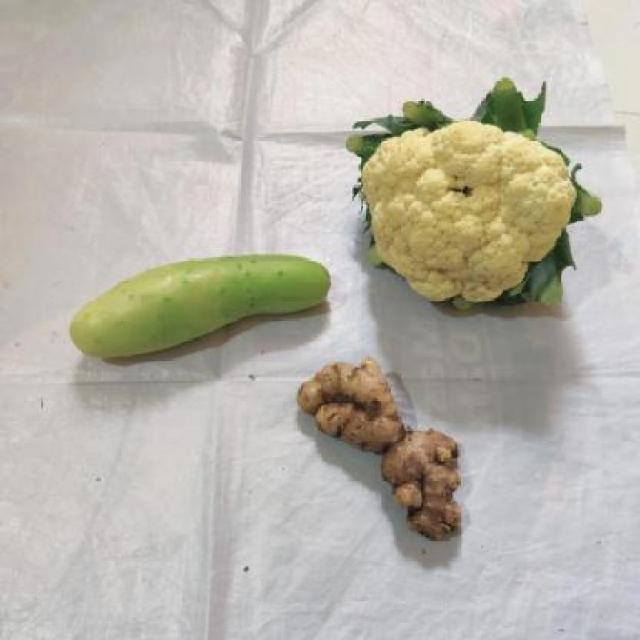Cauliflower: (350, 87, 596, 310)
Ginger: (297, 360, 465, 534)
cucumber: (73, 254, 330, 356)
